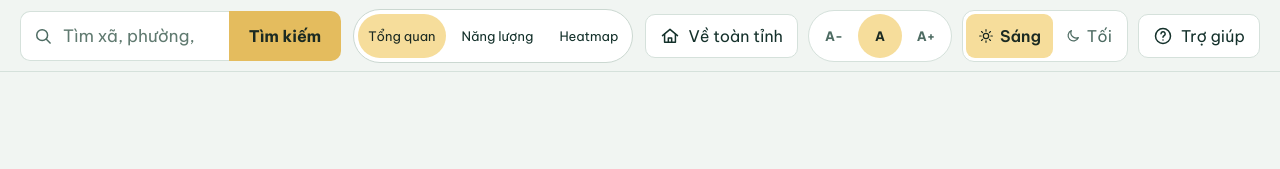
Test case: DashboardHeader (topbar) › shows an empty-state row when nothing matches
The width and height of the screenshot is (1280, 169).
Type "zzzzqq" into the dropdown at (139, 36), box [61,12,217,60]
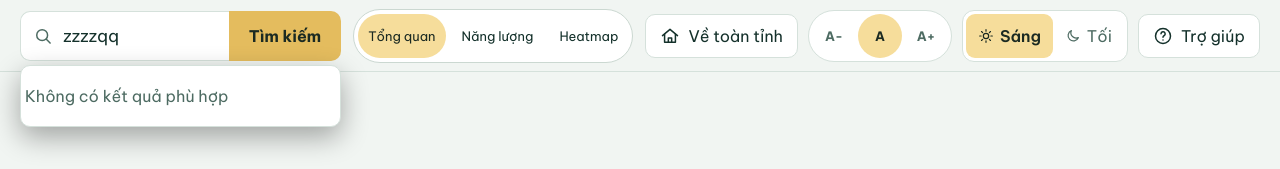
expect the option "Không có kết quả phù hợp" is shown: met, box [25,86,228,106]
